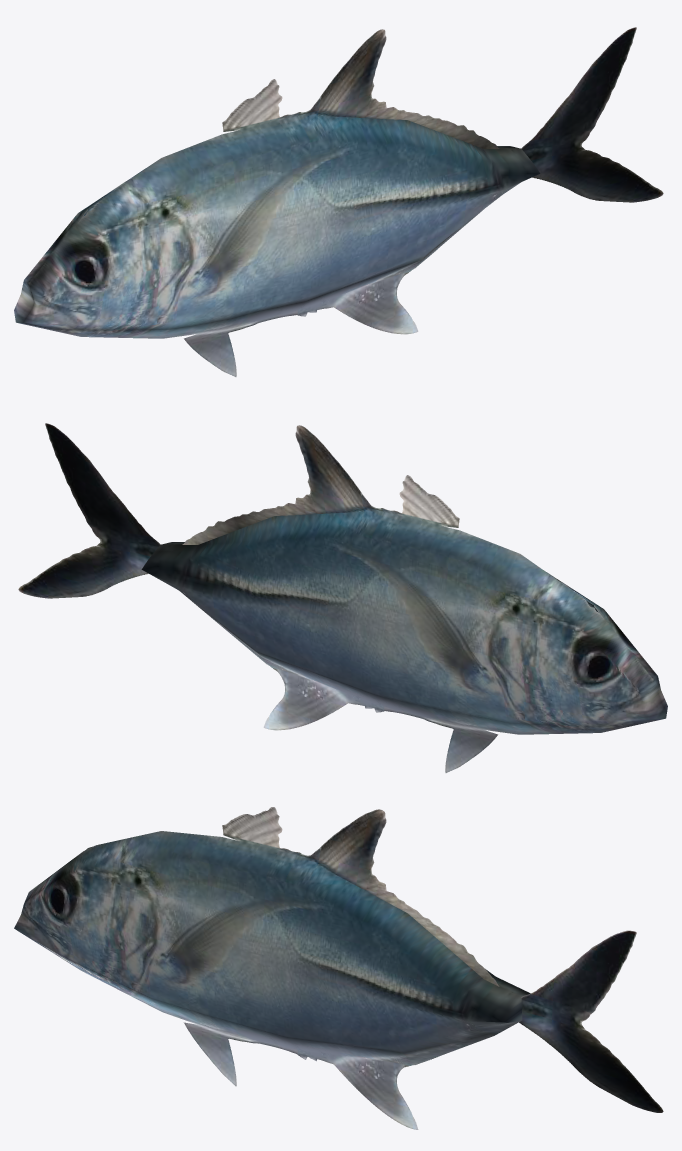
File: fish 1.fbx
3 views of the same model, one above another, from view 1: azimuth 30°, elevation 25°; view 2: azimuth 150°, elevation 25°; view 3: azimuth 330°, elevation 25° (orthographic).
Parts seen in each view (by area): view 1: 平面.001; view 2: 平面.001; view 3: 平面.001.
Boxes of the visible parts, bbox=[...] form: 平面.001: bbox=[14, 27, 663, 376]; 平面.001: bbox=[18, 423, 667, 772]; 平面.001: bbox=[14, 807, 663, 1129].
Size of the model in its own units: 461 by 217 by 45.35.
